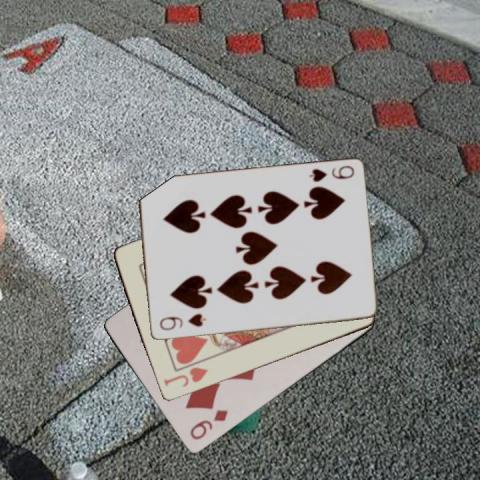9d: (187, 407, 229, 442)
9s: (156, 311, 207, 332), (305, 163, 356, 184)
Jh: (160, 364, 209, 389)
